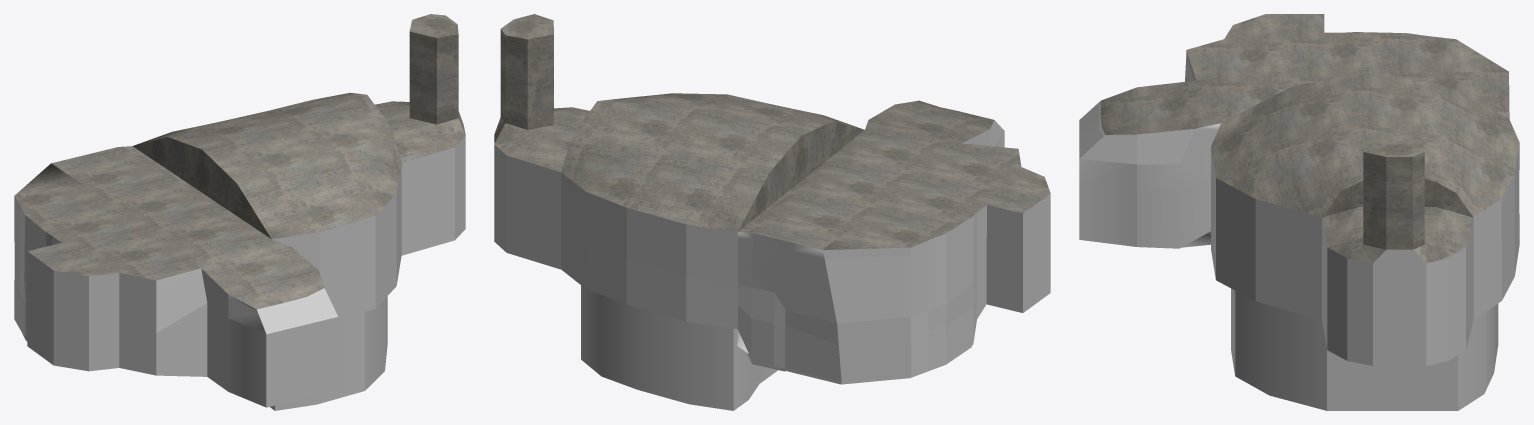
Rendered from level layout.fbx.
3 views of the same model, side by side, from view 1: azimuth 30°, elevation 25°; view 2: azimuth 150°, elevation 25°; view 3: azimuth 270°, elevation 25° (orthographic). The views are drawn at different scales.
Parts seen in each view (by area): view 1: wall, floor; view 2: wall, floor, tunnel; view 3: wall, floor.
Boxes of the visible parts, x1,y1,x2,y2 form: wall: (14, 14, 465, 407); floor: (270, 296, 387, 410); wall: (494, 14, 1050, 381); floor: (581, 285, 777, 410); tunnel: (747, 325, 971, 384); wall: (1079, 14, 1519, 366); floor: (1182, 231, 1498, 410).
Bounding box in the file's own units: 6829 × 3944 × 5141.
